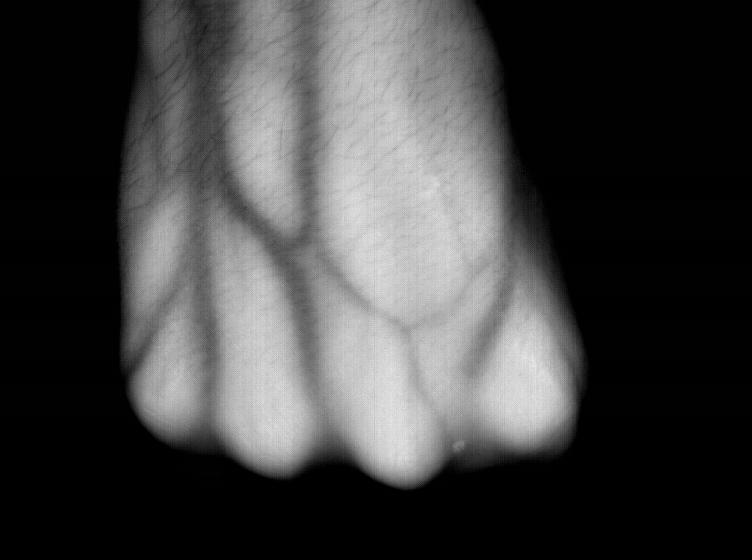Vein: (166, 11, 320, 345)
